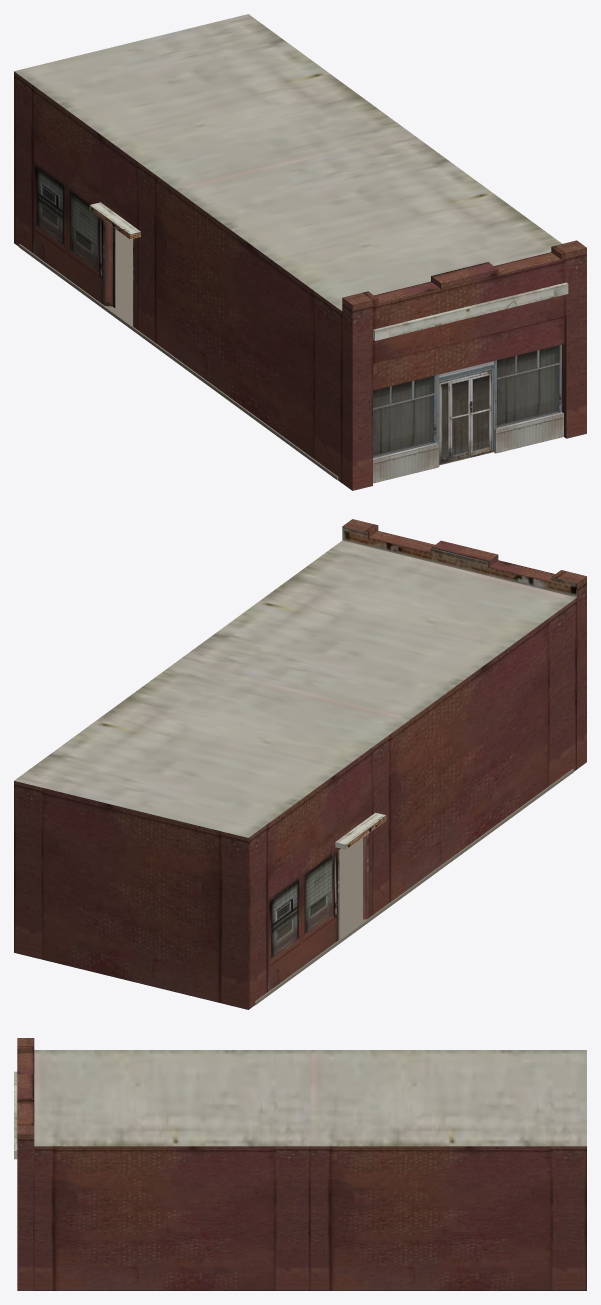
The model's file is rural-store-5.access-v2.lod0.glb.
The picture shows the model from 3 angles, top to bottom: view 1: azimuth 30°, elevation 25°; view 2: azimuth 150°, elevation 25°; view 3: azimuth 270°, elevation 25°; orthographic projection. The views are drawn at different scales.
Visible parts, largest first — view 1: Rural_StoreSmall_5_Rural_Facade_FLR_2_0, Rural_StoreSmall_5_Rural_Brownstone_Facade_Flr_6_0, Walkable floors and stairs; view 2: Rural_StoreSmall_5_Rural_Brownstone_Facade_Flr_6_0, Rural_StoreSmall_5_Rural_Facade_FLR_2_0, Walkable floors and stairs; view 3: Rural_StoreSmall_5_Rural_Brownstone_Facade_Flr_6_0, Rural_StoreSmall_5_Rural_Facade_FLR_2_0.
Part boxes in pixels (box(x1,y1,x2,y2)): Rural_StoreSmall_5_Rural_Facade_FLR_2_0: box(14, 14, 568, 483); Rural_StoreSmall_5_Rural_Brownstone_Facade_Flr_6_0: box(14, 71, 586, 490); Walkable floors and stairs: box(19, 229, 338, 479); Rural_StoreSmall_5_Rural_Brownstone_Facade_Flr_6_0: box(14, 519, 586, 1009); Rural_StoreSmall_5_Rural_Facade_FLR_2_0: box(14, 526, 576, 919); Walkable floors and stairs: box(254, 769, 573, 1004); Rural_StoreSmall_5_Rural_Brownstone_Facade_Flr_6_0: box(17, 1038, 586, 1290); Rural_StoreSmall_5_Rural_Facade_FLR_2_0: box(14, 1050, 586, 1159).
Size of the model in its own units: 8.38 by 6.06 by 20.12.
3 materials, 2 textured.
